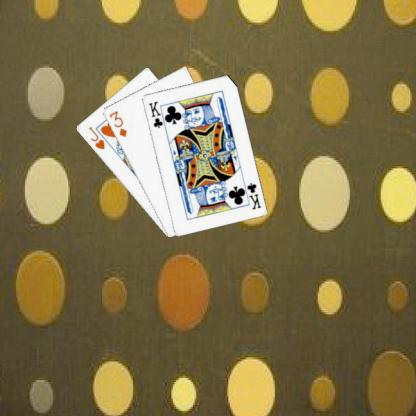3D: (106, 108, 128, 139)
JH: (85, 124, 106, 151)
KC: (146, 99, 168, 131), (240, 178, 262, 210)
